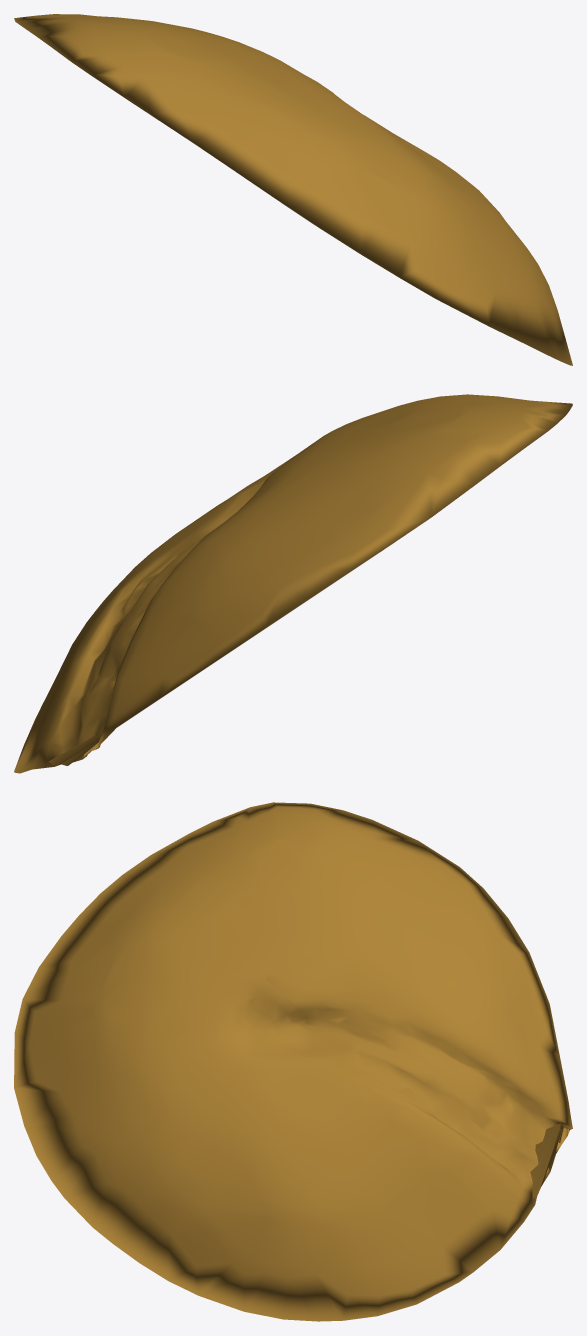
3 renders of one model, top to bottom at view 1: azimuth 30°, elevation 25°; view 2: azimuth 150°, elevation 25°; view 3: azimuth 270°, elevation 25°, orthographic. The views are drawn at different scales.
Parts seen in each view (by area): view 1: Sphere.002; view 2: Sphere.002; view 3: Sphere.002.
Boxes of the visible parts, x1,y1,x2,y2 form: Sphere.002: [14, 14, 572, 365]; Sphere.002: [14, 394, 572, 773]; Sphere.002: [14, 802, 572, 1321].
Size of the model in its own units: 1258 by 1016 by 1554.
